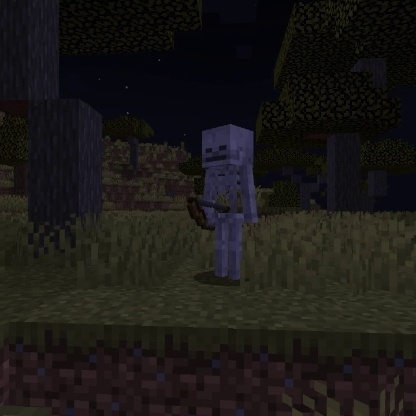skeleton: (184, 121, 263, 285)
